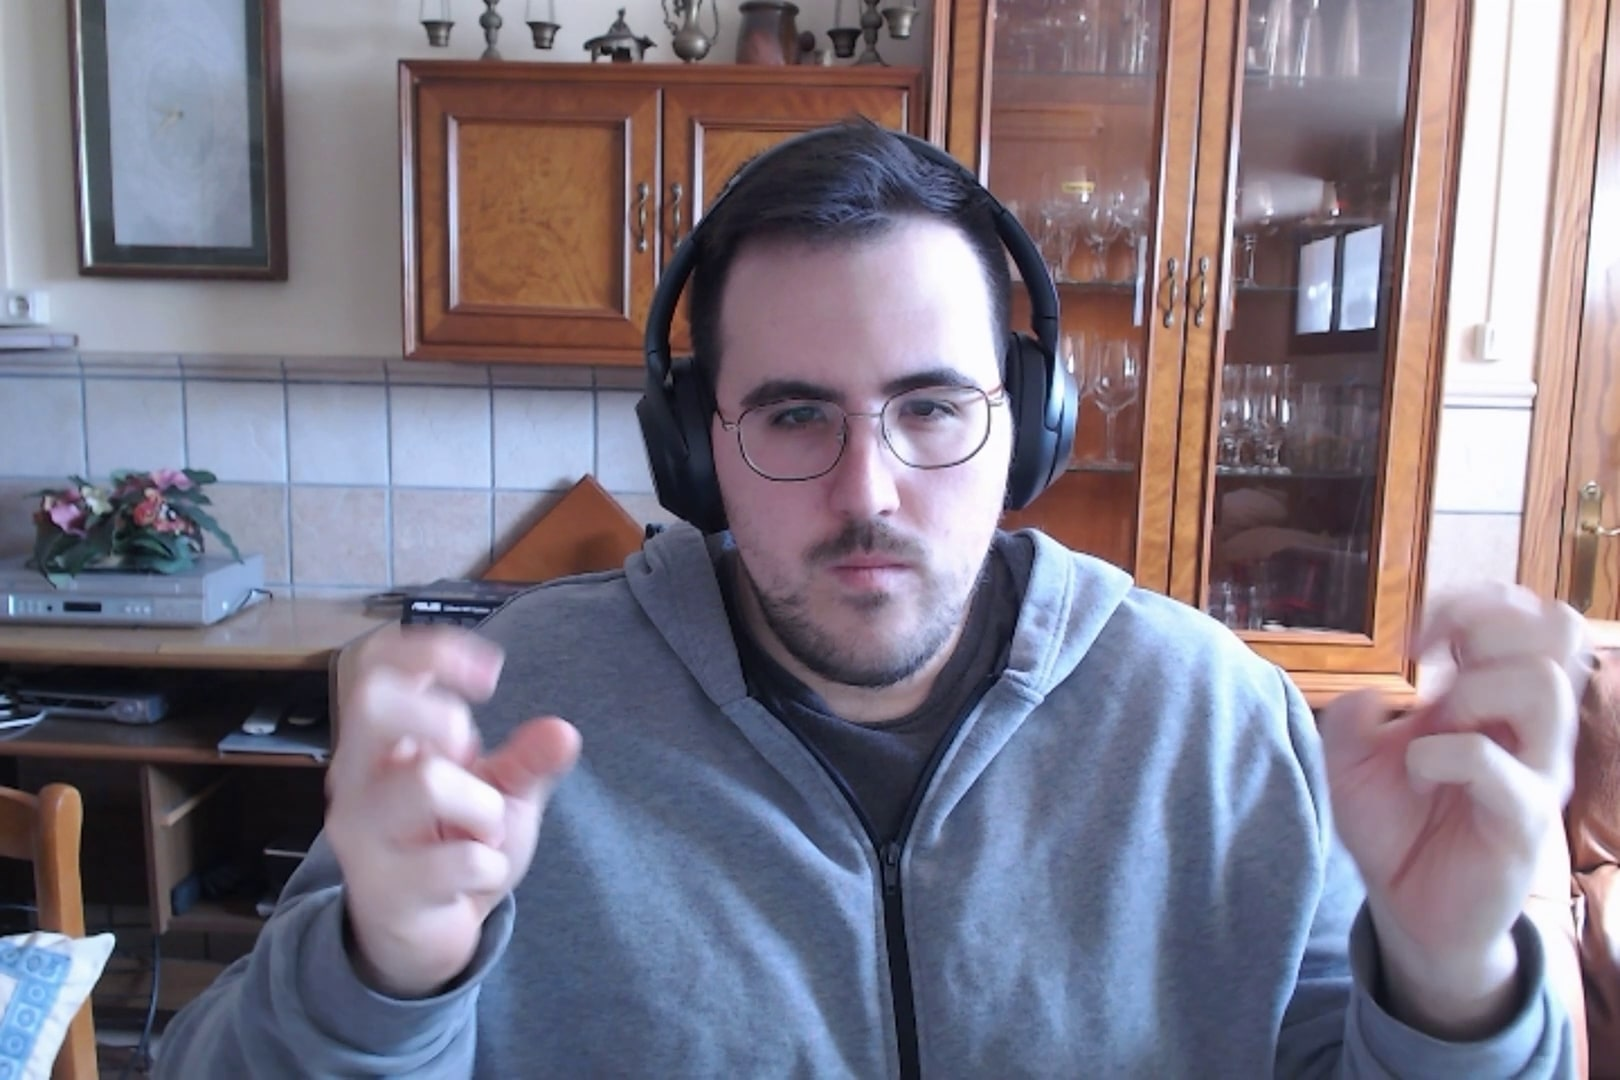hand: (1322, 576, 1596, 969), (318, 615, 595, 1000)
